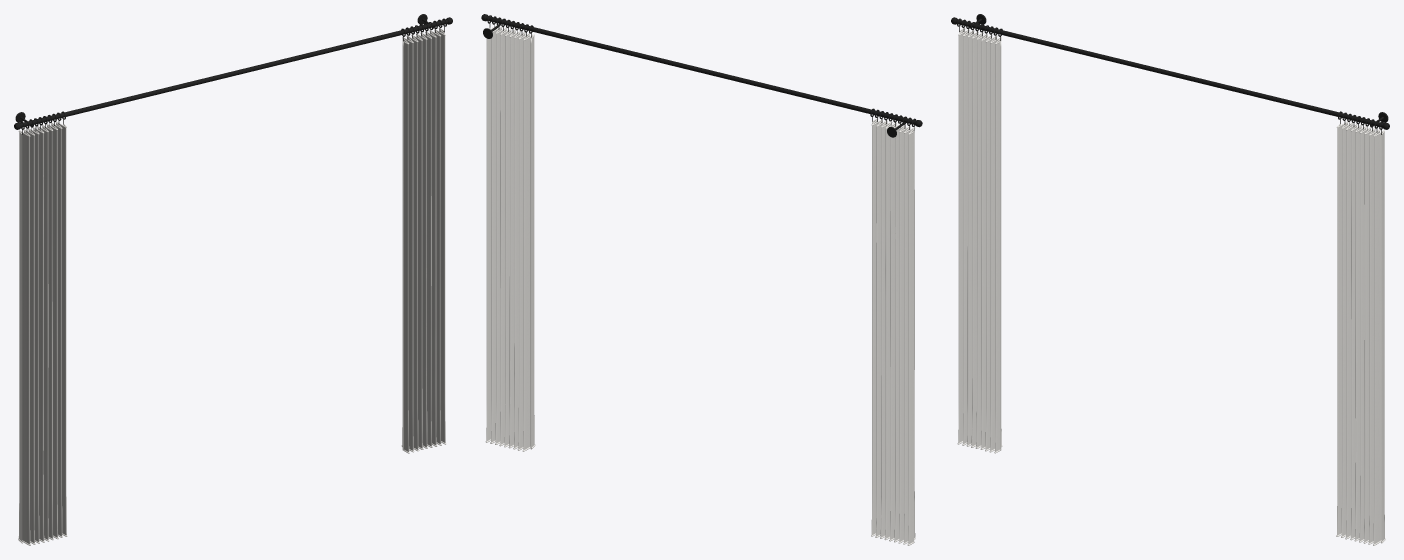
File: cortina_onda_260_c20.glb
3 views of the same model, side by side, from view 1: azimuth 30°, elevation 25°; view 2: azimuth 150°, elevation 25°; view 3: azimuth 330°, elevation 25° (orthographic).
Parts seen in each view (by area): view 1: cortina_onda_260_c20; view 2: cortina_onda_260_c20; view 3: cortina_onda_260_c20.
Boxes of the visible parts, <box> form: cortina_onda_260_c20: <box>14,14,452,545</box>; cortina_onda_260_c20: <box>481,14,922,545</box>; cortina_onda_260_c20: <box>951,14,1389,545</box>.
Bounding box in the file's own units: 2.6 × 2.39 × 0.1777.
Materials: 2 (1 with a texture image).
